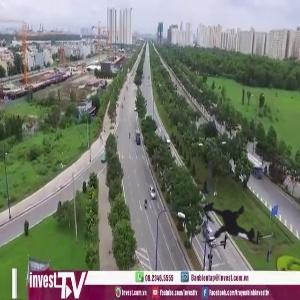drone: (171, 169, 292, 290)
